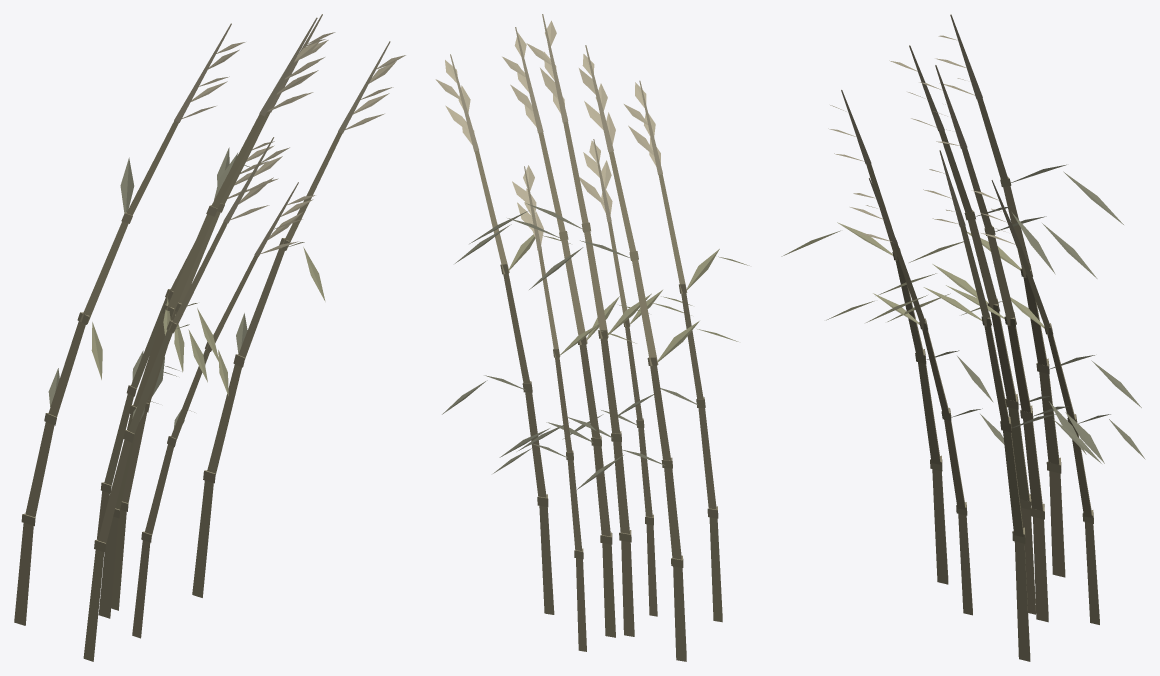
Rendered from shui.luweicong@fruiting__winter.glb.
3 renders of one model, left to right at view 1: azimuth 30°, elevation 25°; view 2: azimuth 150°, elevation 25°; view 3: azimuth 270°, elevation 25°, orthographic. The views are drawn at different scales.
Parts seen in each view (by area): view 1: shui.luweicong@fruiting__winter; view 2: shui.luweicong@fruiting__winter; view 3: shui.luweicong@fruiting__winter.
Part boxes in pixels (bbox=[...]): shui.luweicong@fruiting__winter: bbox=[14, 14, 405, 661]; shui.luweicong@fruiting__winter: bbox=[435, 14, 749, 661]; shui.luweicong@fruiting__winter: bbox=[781, 14, 1145, 661].
Bounding box in the file's own units: 1.99 × 3.49 × 1.78.
